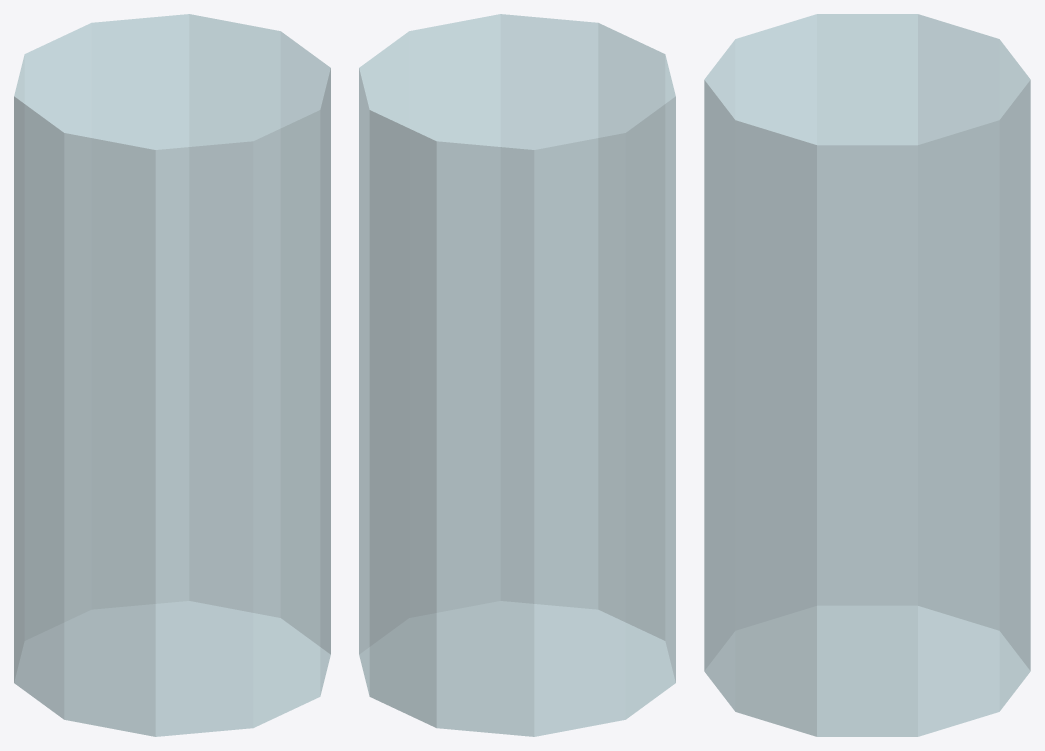
Rendered from prop_dna_vial_glass.glb.
The picture shows the model from 3 angles, left to right: view 1: azimuth 30°, elevation 25°; view 2: azimuth 150°, elevation 25°; view 3: azimuth 270°, elevation 25°; orthographic projection.
Visible parts, largest first — view 1: prop_dna_vial_glass; view 2: prop_dna_vial_glass; view 3: prop_dna_vial_glass.
Boxes of the visible parts, left/top/right/bottom form: prop_dna_vial_glass: left=14, top=14, right=330, bottom=736; prop_dna_vial_glass: left=359, top=14, right=675, bottom=736; prop_dna_vial_glass: left=704, top=14, right=1030, bottom=736.
Bounding box in the file's own units: 0.0951 × 0.2 × 0.1.
Materials: 1 (1 with a texture image).
